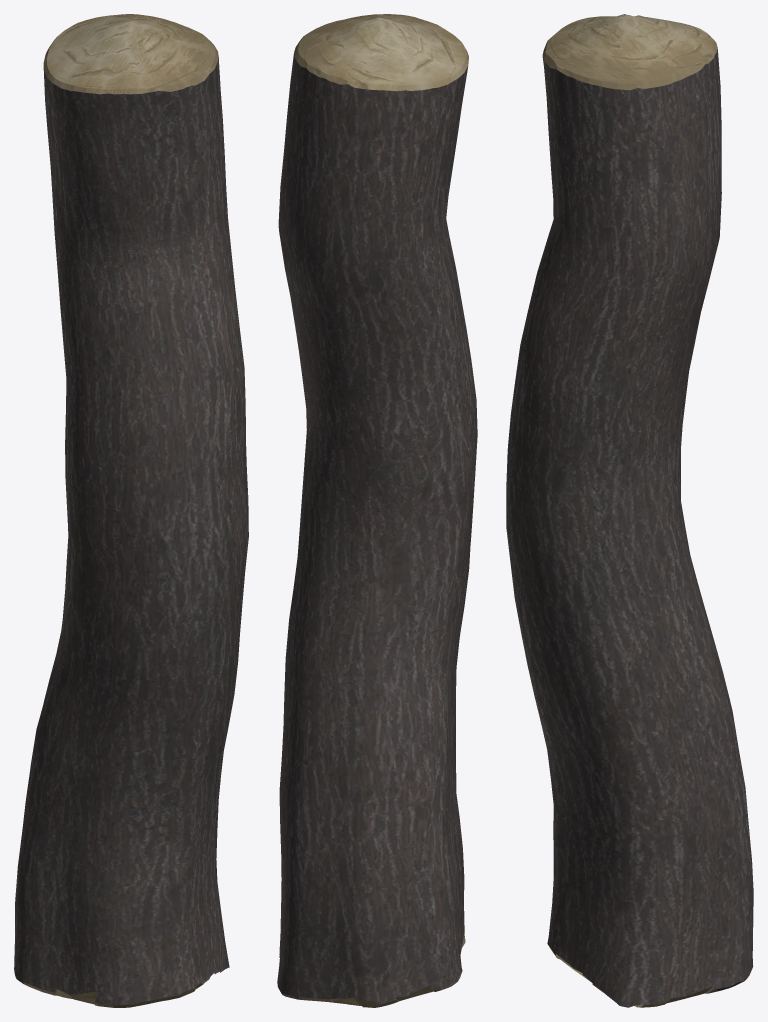
3 views of the same model, side by side, from view 1: azimuth 30°, elevation 25°; view 2: azimuth 150°, elevation 25°; view 3: azimuth 270°, elevation 25° (orthographic). The views are drawn at different scales.
Parts seen in each view (by area): view 1: SM_BM_Oak_Tree_02_half_bottom_LOD0; view 2: SM_BM_Oak_Tree_02_half_bottom_LOD0; view 3: SM_BM_Oak_Tree_02_half_bottom_LOD0.
Part boxes in pixels (bbox=[...]): SM_BM_Oak_Tree_02_half_bottom_LOD0: bbox=[14, 14, 248, 1007]; SM_BM_Oak_Tree_02_half_bottom_LOD0: bbox=[277, 14, 477, 1007]; SM_BM_Oak_Tree_02_half_bottom_LOD0: bbox=[506, 14, 753, 1007].
Size of the model in its own units: 1.11 by 5.56 by 1.29.
1 material, 1 textured.
